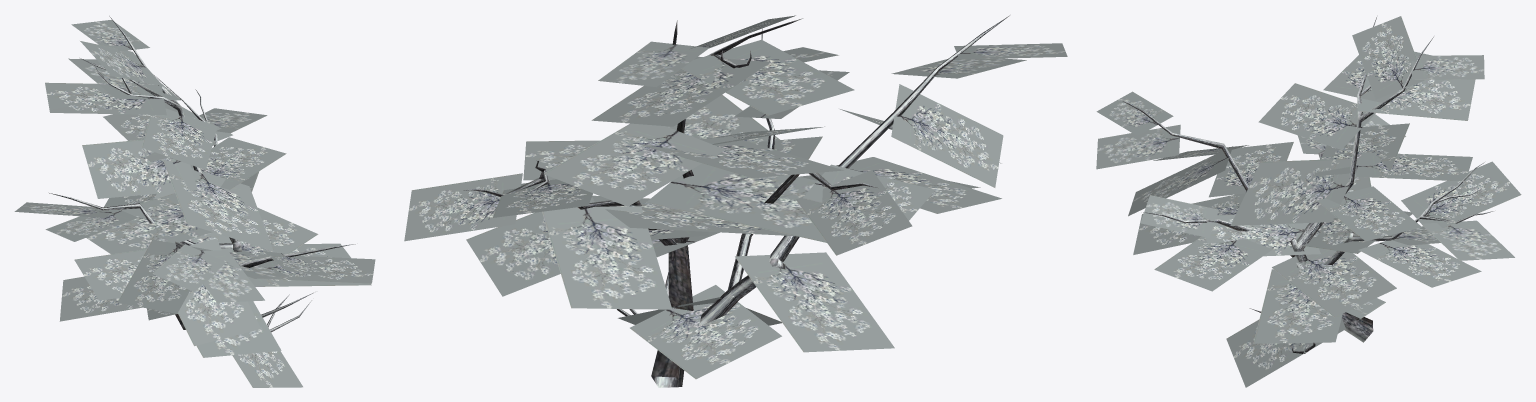
The model's file is S_Tree_White017_A.FBX.
3 views of the same model, side by side, from view 1: azimuth 30°, elevation 25°; view 2: azimuth 150°, elevation 25°; view 3: azimuth 270°, elevation 25° (orthographic). The views are drawn at different scales.
Visible parts, largest first — view 1: S_Tree_White017_A; view 2: S_Tree_White017_A; view 3: S_Tree_White017_A.
Part boxes in pixels (x1,y1,x2,y2): S_Tree_White017_A: (14, 16, 375, 387); S_Tree_White017_A: (404, 15, 1067, 387); S_Tree_White017_A: (1096, 16, 1521, 387).
Size of the model in its own units: 916 by 917 by 1147.
